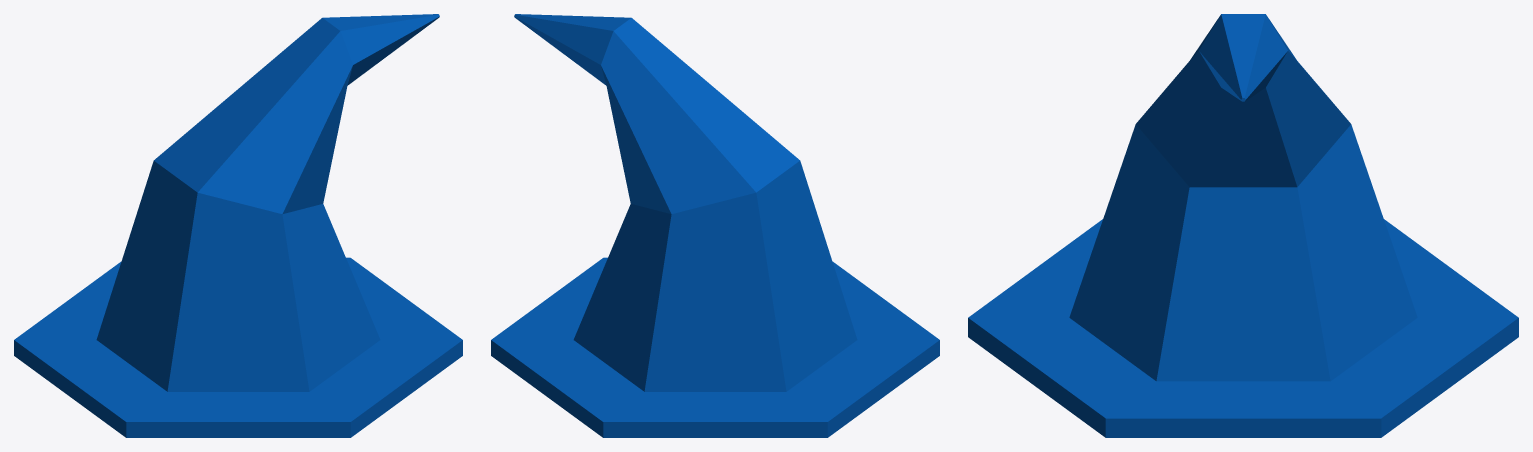
File: wizardHat.glb
3 renders of one model, left to right at view 1: azimuth 30°, elevation 25°; view 2: azimuth 150°, elevation 25°; view 3: azimuth 270°, elevation 25°, orthographic. The views are drawn at different scales.
Parts seen in each view (by area): view 1: wizHat; view 2: wizHat; view 3: wizHat.
Boxes of the visible parts, x1,y1,x2,y2 form: wizHat: (14,14,462,437); wizHat: (491,14,939,437); wizHat: (968,14,1518,437).
Bounding box in the file's own units: 1.21 × 0.9715 × 1.28.
Materials: 1 (1 with a texture image).
